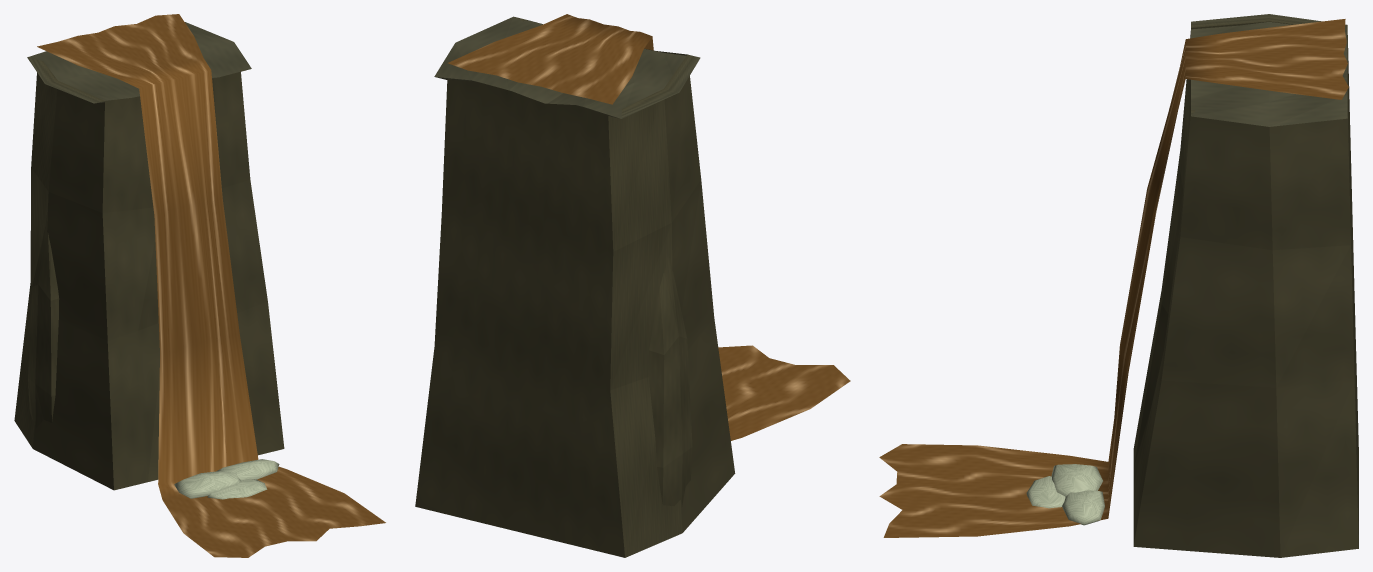
The model's file is fall-hukou-lod1.glb.
3 renders of one model, left to right at view 1: azimuth 30°, elevation 25°; view 2: azimuth 150°, elevation 25°; view 3: azimuth 270°, elevation 25°, orthographic. The views are drawn at different scales.
Bounding box in the file's own units: 0.582 × 1 × 0.9921.
Materials: 1 (1 with a texture image).
